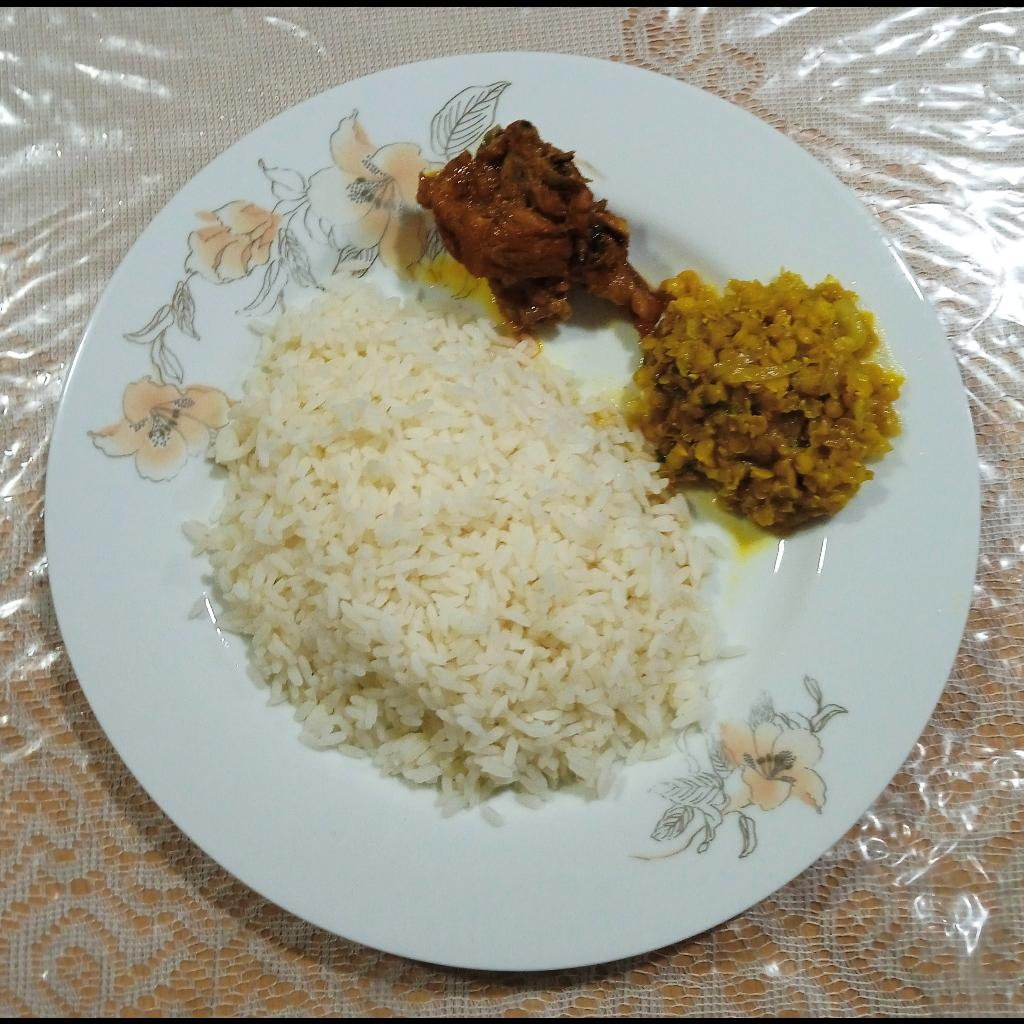chicken: (414, 119, 665, 335)
daal: (624, 270, 905, 532)
rice: (181, 259, 750, 821)
